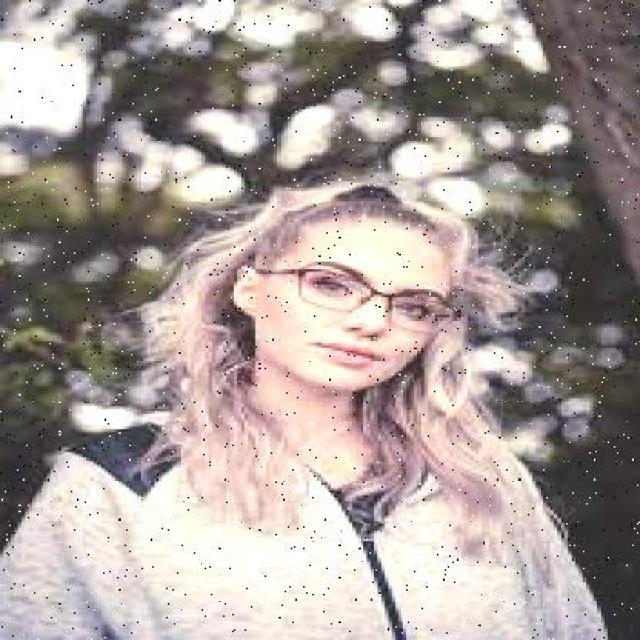glasses: (283, 254, 460, 338)
